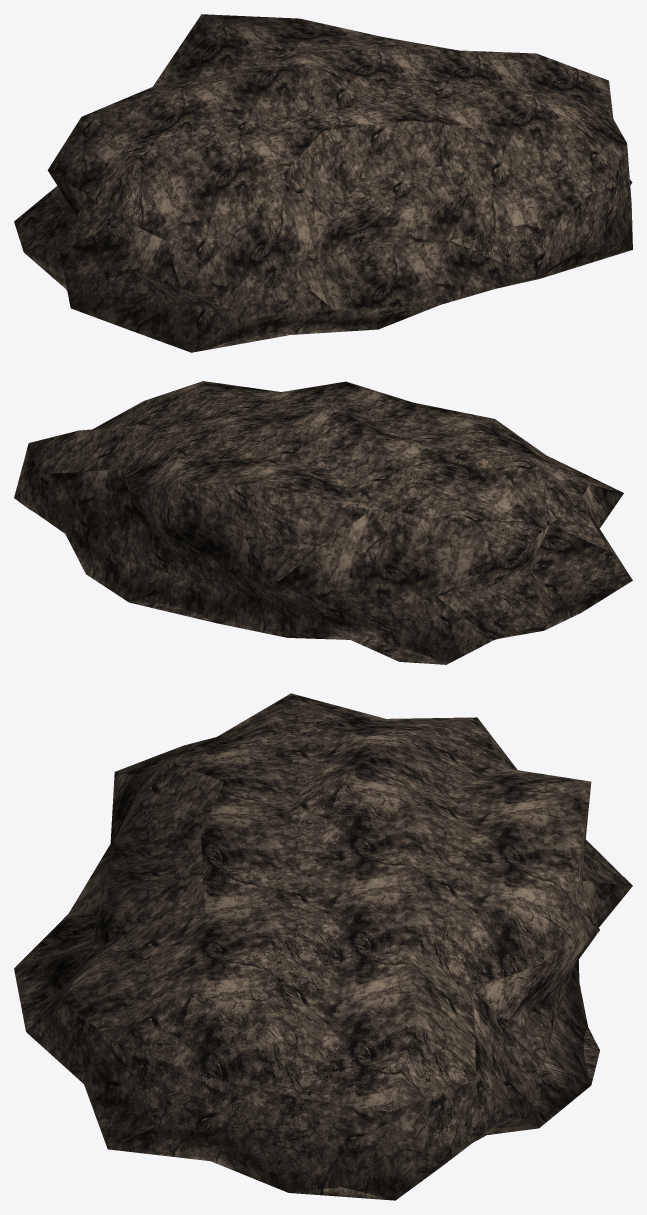
File: rock_3.glb
3 renders of one model, top to bottom at view 1: azimuth 30°, elevation 25°; view 2: azimuth 150°, elevation 25°; view 3: azimuth 270°, elevation 25°, orthographic. The views are drawn at different scales.
Parts seen in each view (by area): view 1: rock; view 2: rock; view 3: rock.
Boxes of the visible parts, <box> form: rock: <box>14,14,632,352</box>; rock: <box>14,381,632,664</box>; rock: <box>14,693,632,1200</box>.
Bounding box in the file's own units: 96.5 × 27.12 × 66.61.
Materials: 1 (1 with a texture image).
